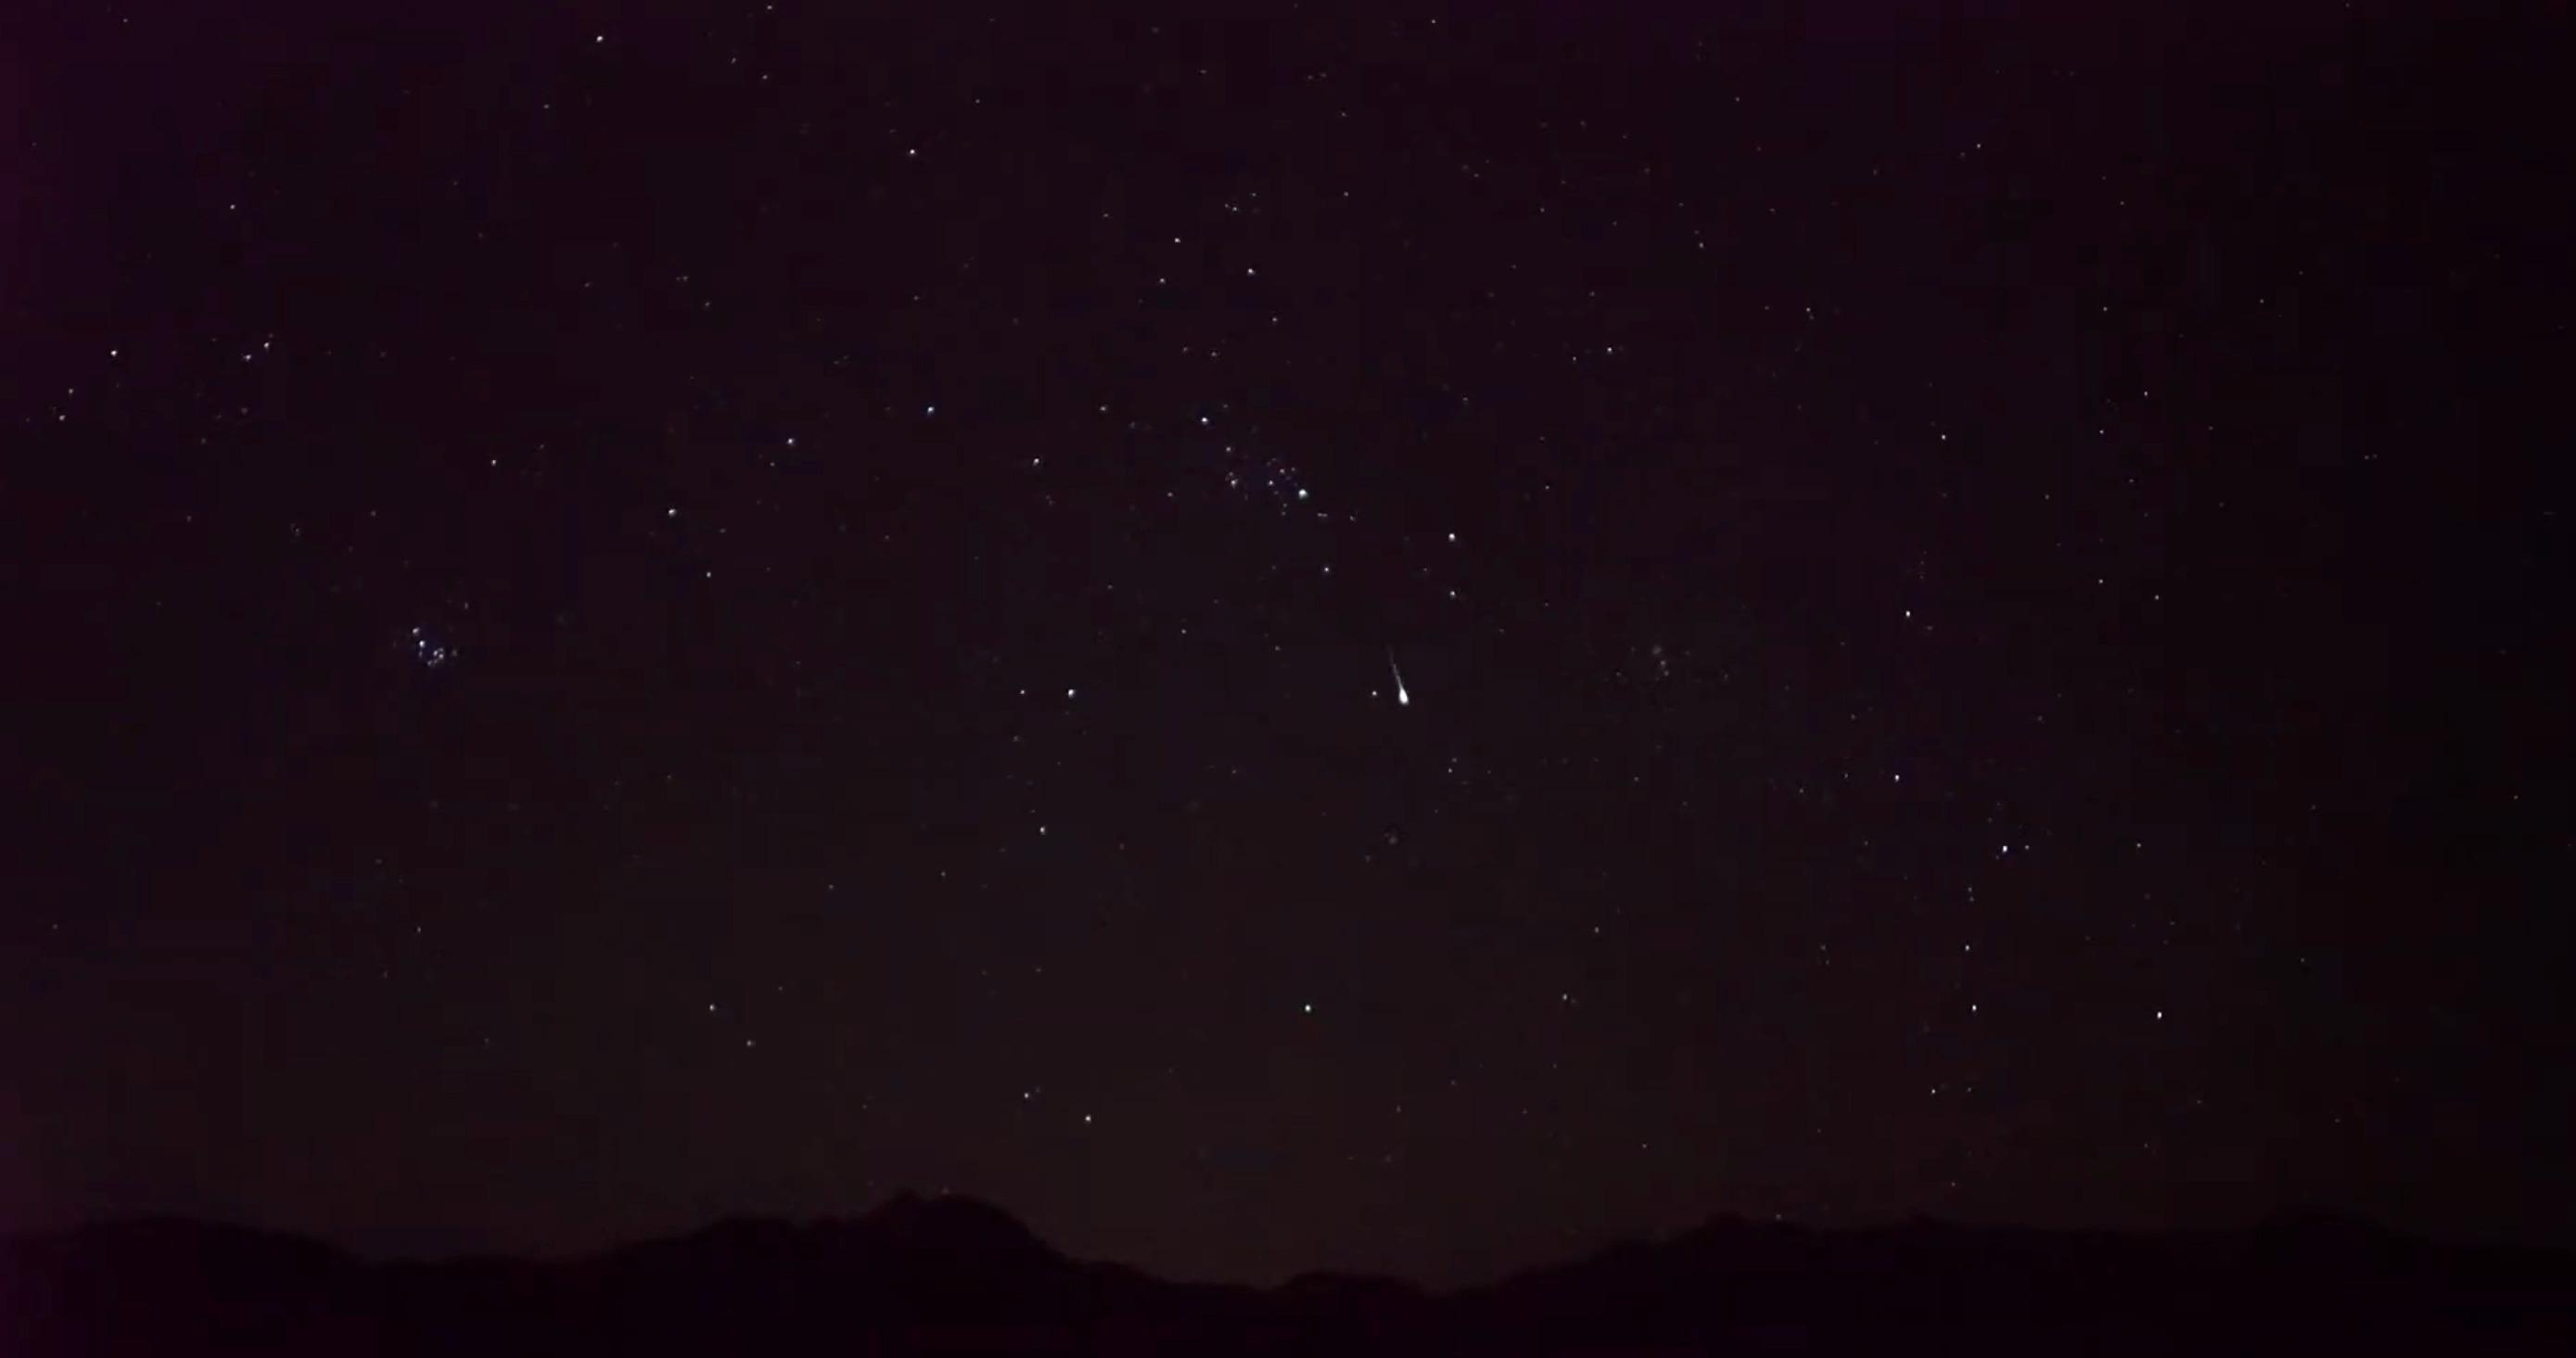meteorite: (1332, 642, 1465, 721)
